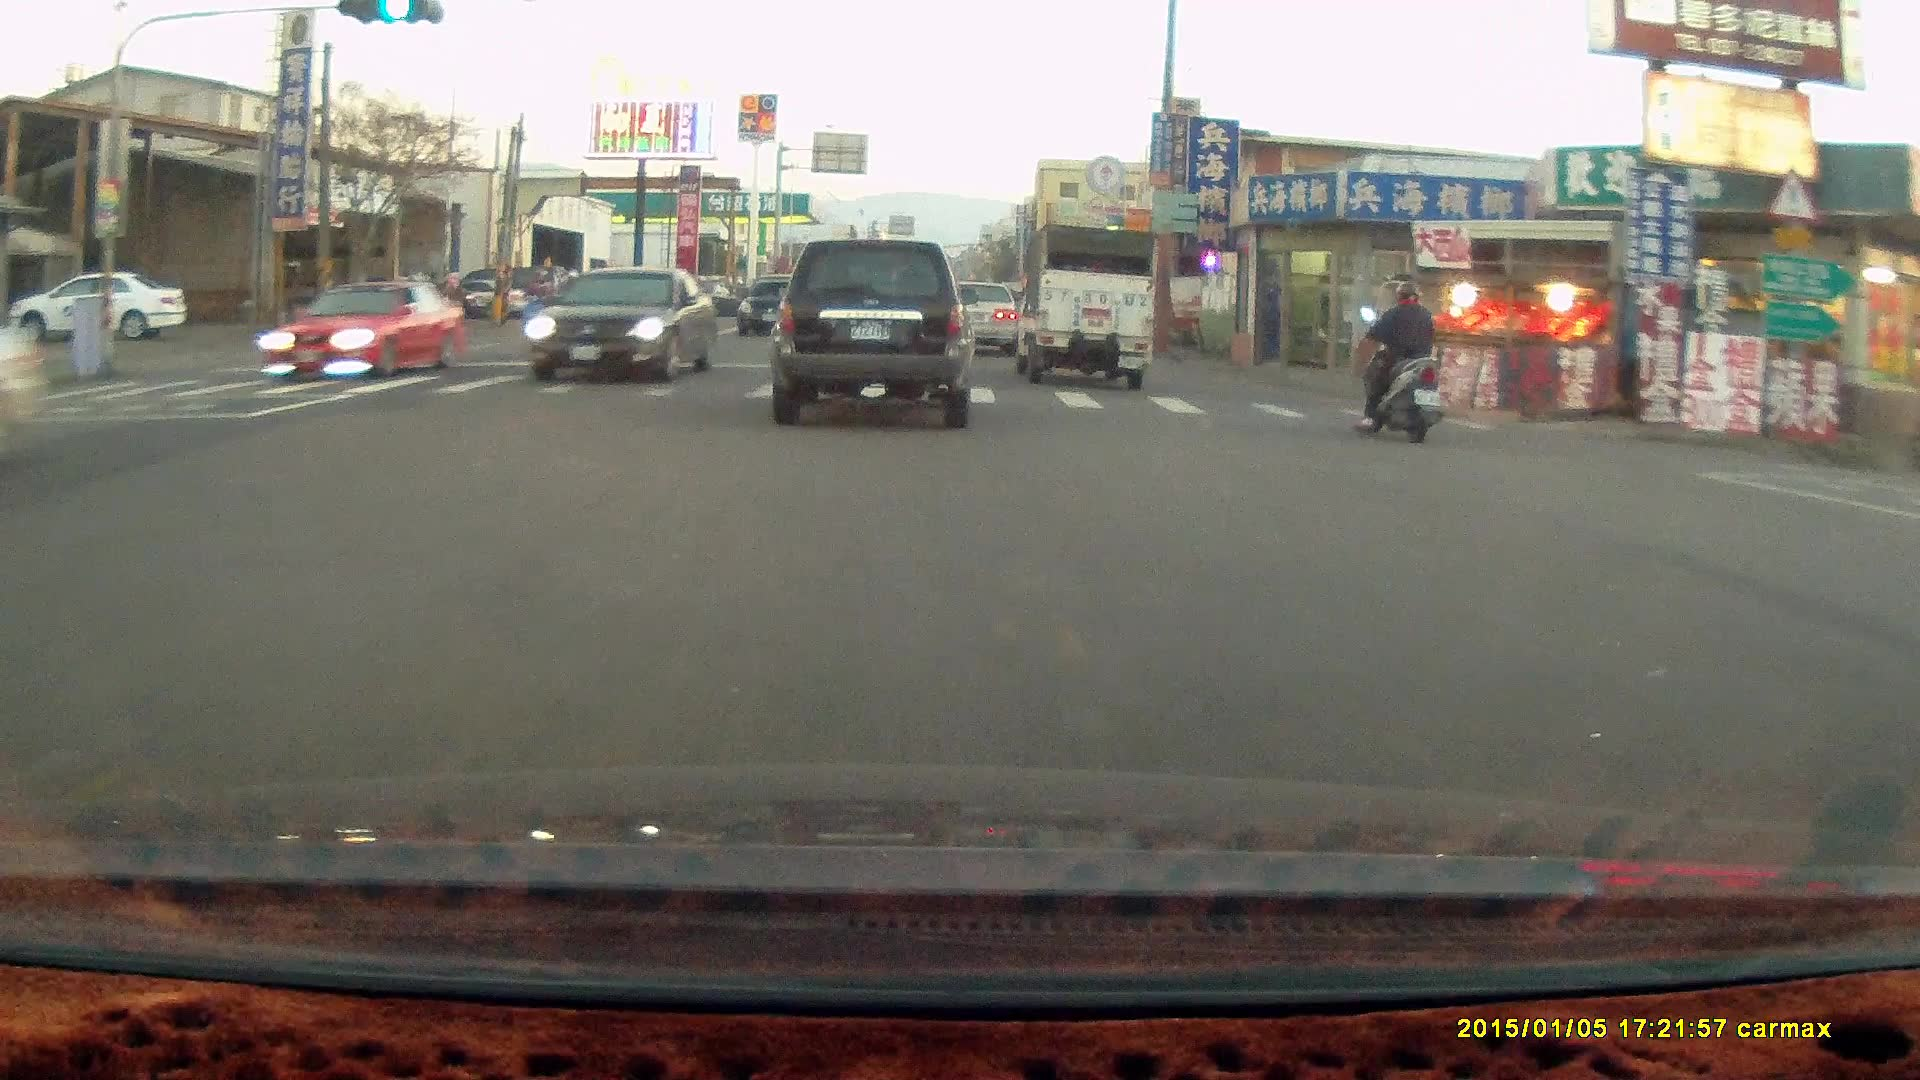rider: (1353, 285, 1442, 451)
vehicle: (768, 239, 980, 428), (1012, 223, 1160, 392), (526, 266, 722, 387), (258, 280, 464, 385), (10, 269, 191, 343), (936, 278, 1018, 354), (957, 284, 1031, 364), (737, 276, 823, 341)
